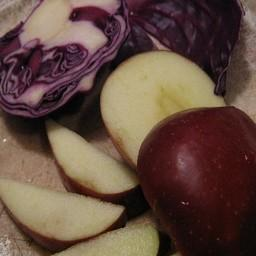apple: (136, 104, 256, 256)
